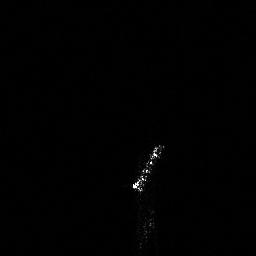ship: (127, 140, 168, 196)
